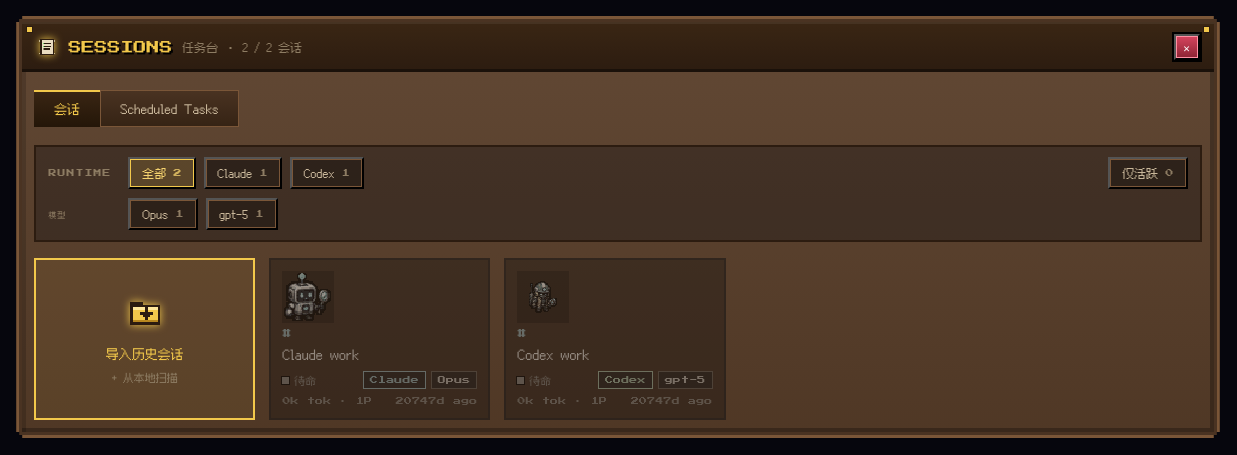
Test case: session grid runtime tabs filter Claude and Codex sessions
The width and height of the screenshot is (1237, 455).
Expected: the text "Claude work" is shown, [282,344,359,365]
Expected: the text "Codex work" is shown, [518,344,590,365]
Click the button "Codex 1".
click(327, 173)  # box [290,157,364,189]
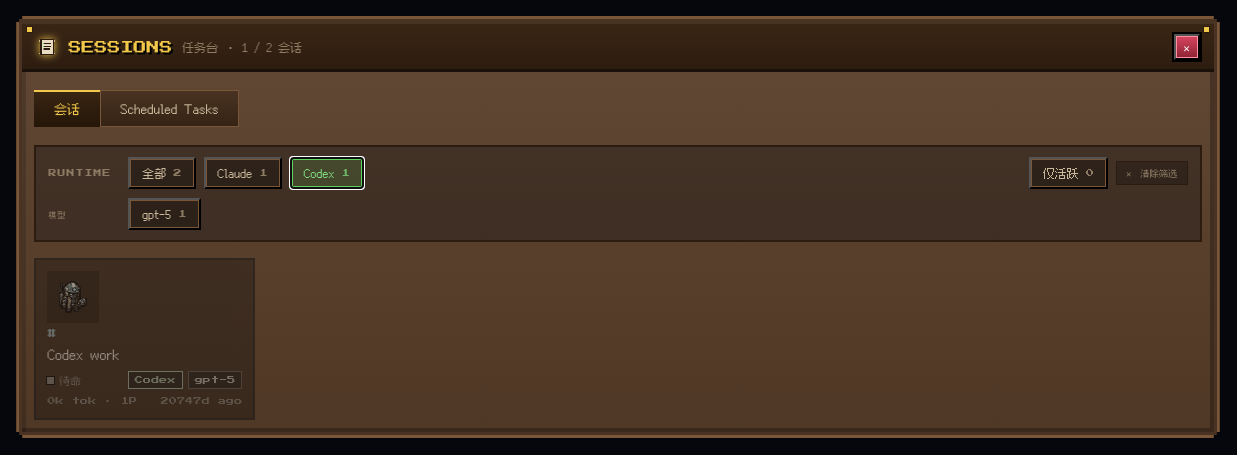
Expected: the text "Codex work" is shown, [47,344,120,365]
Expected: the text "Claude work" is gone
Click the button "Claude 1".
click(243, 173)  # box [204,157,282,189]
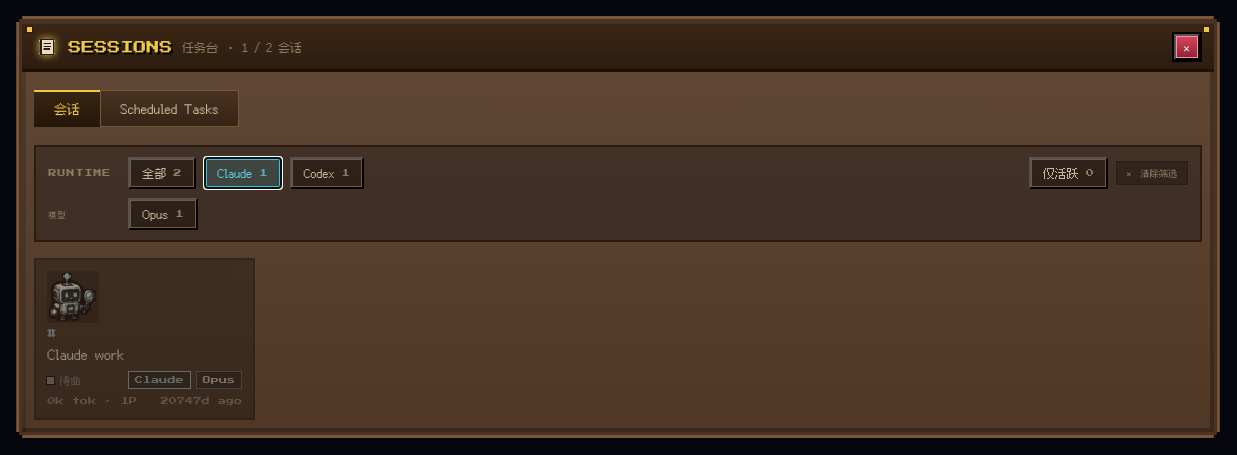
Expected: the text "Claude work" is shown, [47,344,124,365]
Expected: the text "Codex work" is gone
